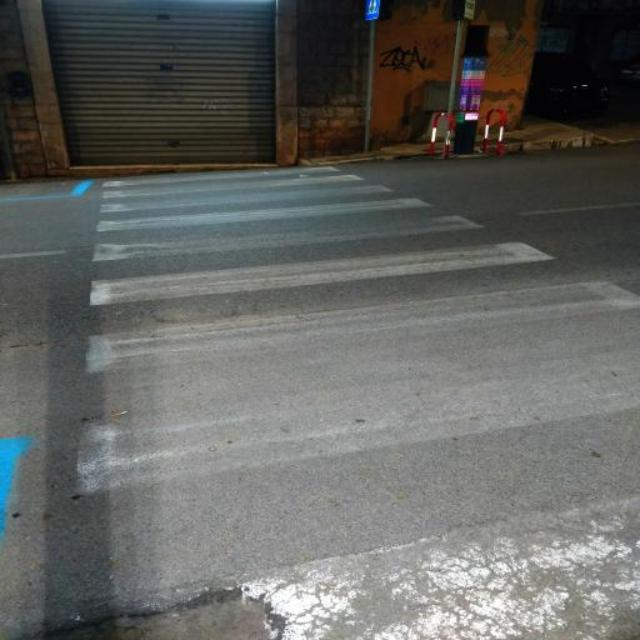sidewalk: (70, 165, 636, 501)
